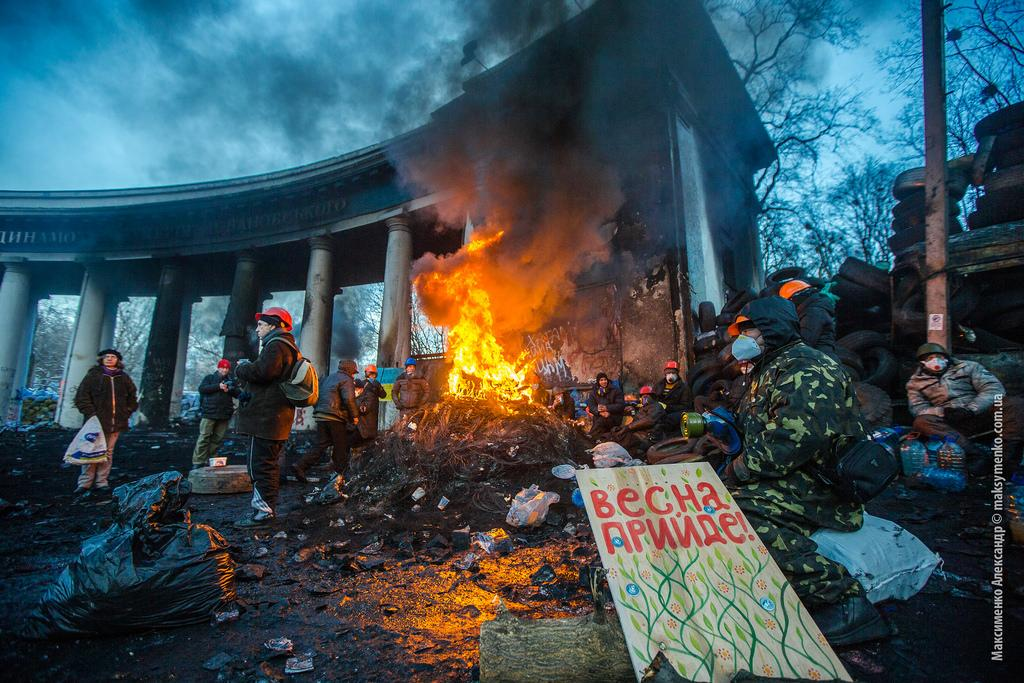fire: (450, 297, 508, 393)
smoke: (428, 103, 585, 200)
